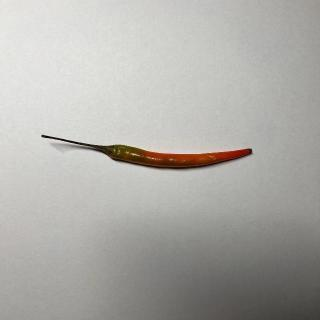Cabai Merah: (41, 135, 253, 169)
